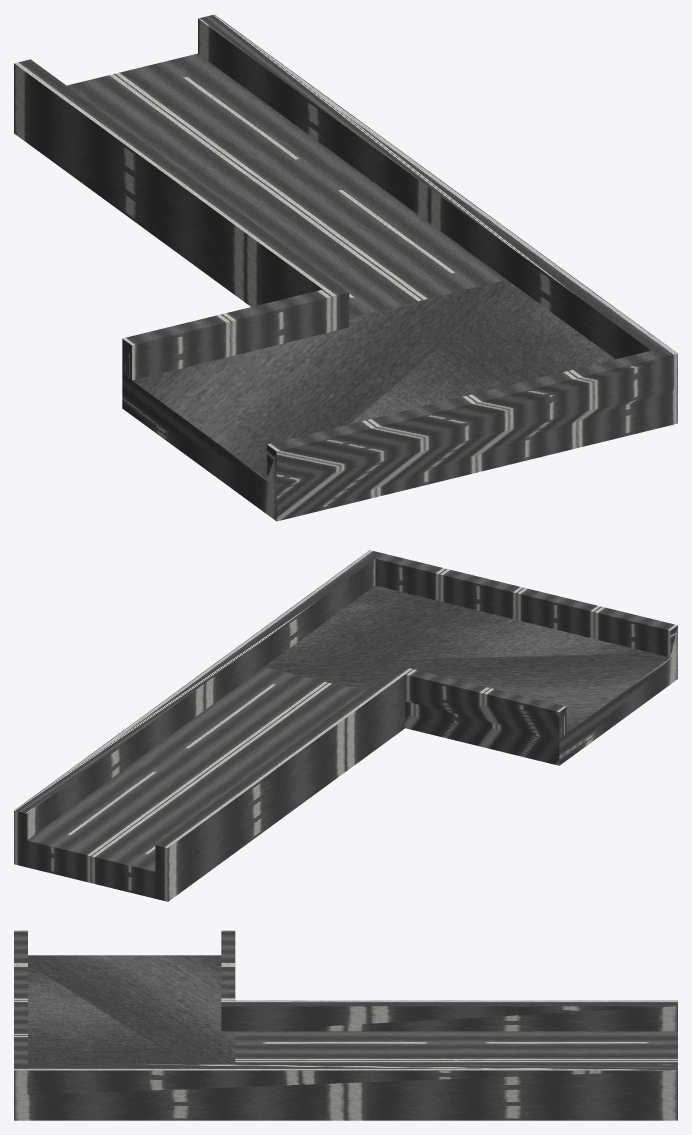
The model's file is K-Zig begin.obj.
3 renders of one model, top to bottom at view 1: azimuth 30°, elevation 25°; view 2: azimuth 150°, elevation 25°; view 3: azimuth 270°, elevation 25°, orthographic. The views are drawn at different scales.
Visible parts, largest first — view 1: polySurface8; view 2: polySurface8; view 3: polySurface8.
Part boxes in pixels (x1,y1,x2,y2): polySurface8: (14,14,677,521); polySurface8: (14,550,677,901); polySurface8: (14,930,677,1120).
Bounding box in the file's own units: 945 × 157 × 1890.
Materials: 1 (1 with a texture image).
